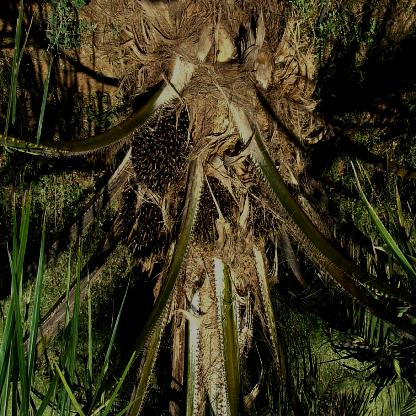palm-oil: (130, 99, 191, 190), (117, 200, 170, 262), (186, 183, 232, 247), (246, 200, 277, 245)
